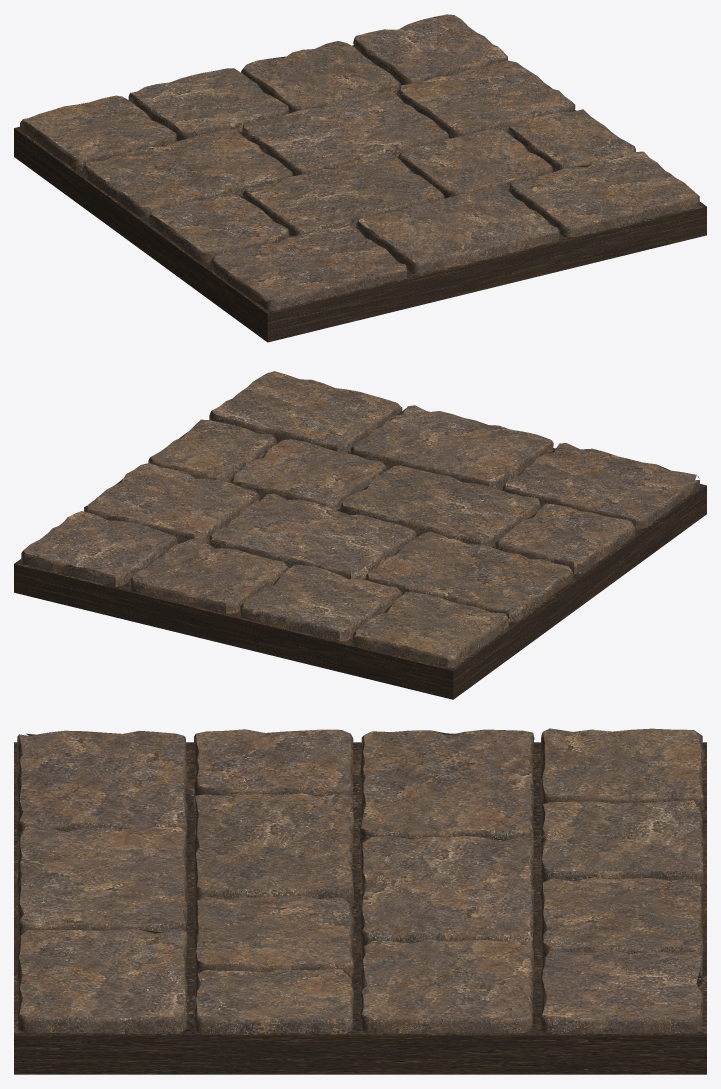
File: dungeon-floor-module-desktop.glb
3 views of the same model, one above another, from view 1: azimuth 30°, elevation 25°; view 2: azimuth 150°, elevation 25°; view 3: azimuth 270°, elevation 25° (orthographic). The views are drawn at different scales.
Parts seen in each view (by area): view 1: stone_floor_2m_LOD0; view 2: stone_floor_2m_LOD0; view 3: stone_floor_2m_LOD0.
Part boxes in pixels (left/top/right/bottom): stone_floor_2m_LOD0: left=14, top=14, right=706, bottom=342; stone_floor_2m_LOD0: left=14, top=371, right=706, bottom=699; stone_floor_2m_LOD0: left=14, top=728, right=706, bottom=1074.
Size of the model in its own units: 2 by 0.1784 by 2.
Materials: 1 (1 with a texture image).
